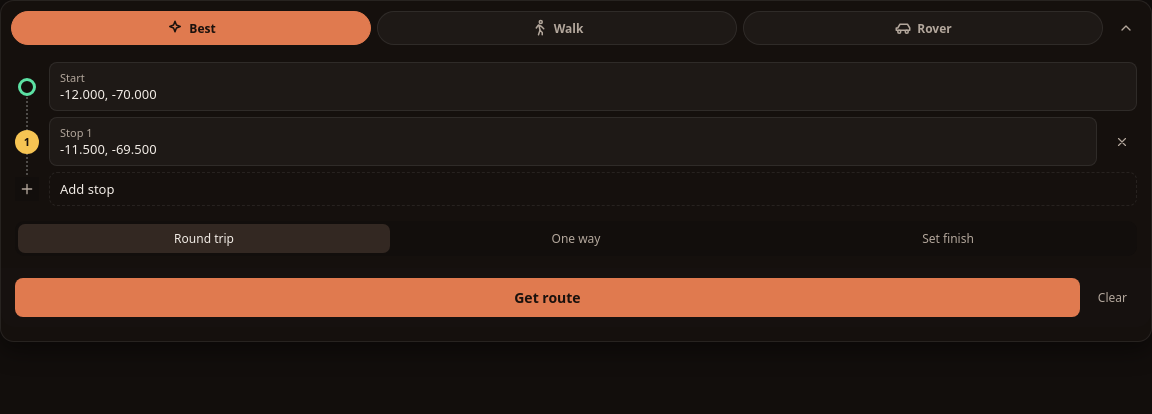
Test: a chosen finish is needed in Set finish mode and is enough without stops
Later steps or results of the test are not shown.
What coordinates should you click on to do the following:
click the radio button labelled "Set finish"
I would click on:
 (948, 238)
Its box is [762,224,1134,253].
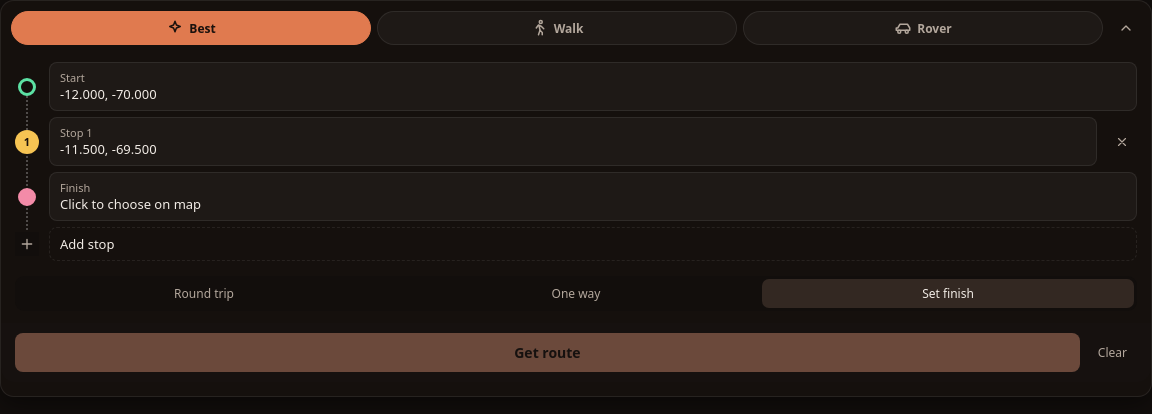
Now the button "Finish Click to choose on map" is shown, box [49,172,1137,221]
Now the button "Get route" is disabled, box [15,333,1080,372]
